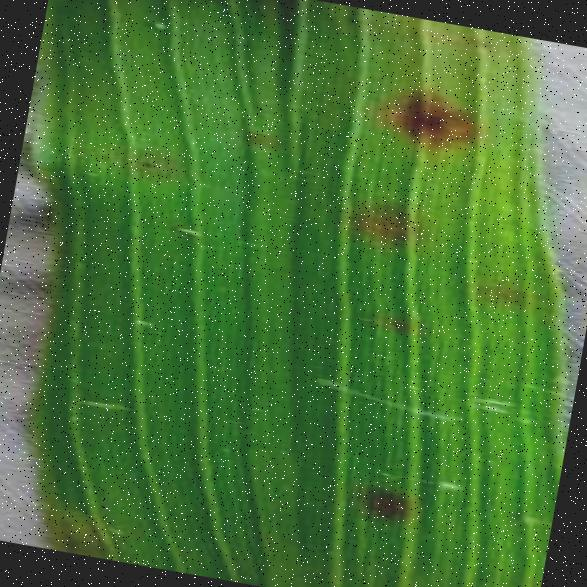Brown_Spot: (364, 53, 496, 170), (337, 184, 439, 264), (335, 456, 425, 535), (115, 140, 178, 184), (374, 304, 424, 343), (126, 2, 160, 34), (147, 12, 174, 36)
